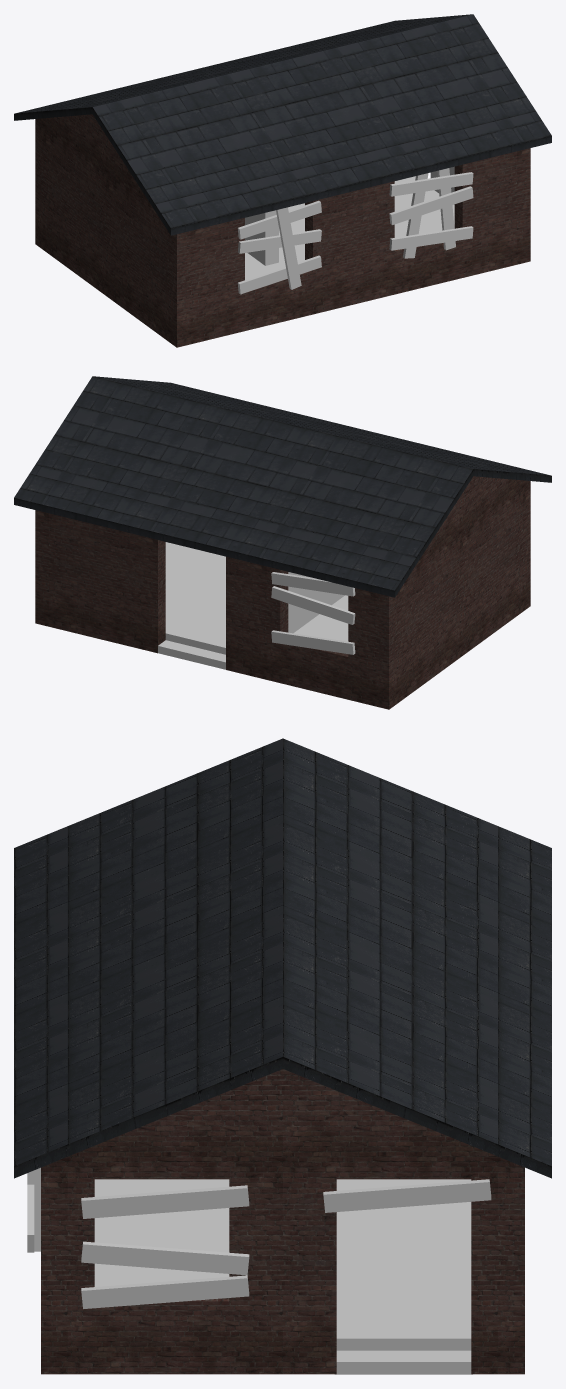
File: BrickHouse.fbx
3 views of the same model, one above another, from view 1: azimuth 30°, elevation 25°; view 2: azimuth 150°, elevation 25°; view 3: azimuth 270°, elevation 25° (orthographic). The views are drawn at different scales.
Parts seen in each view (by area): view 1: polySurface7; view 2: polySurface7; view 3: polySurface7.
Boxes of the visible parts, x1=… form: polySurface7: x1=14, y1=14, x2=551, y2=347; polySurface7: x1=14, y1=376, x2=551, y2=709; polySurface7: x1=14, y1=738, x2=551, y2=1374.
Bounding box in the file's own units: 1139 × 549 × 814.
